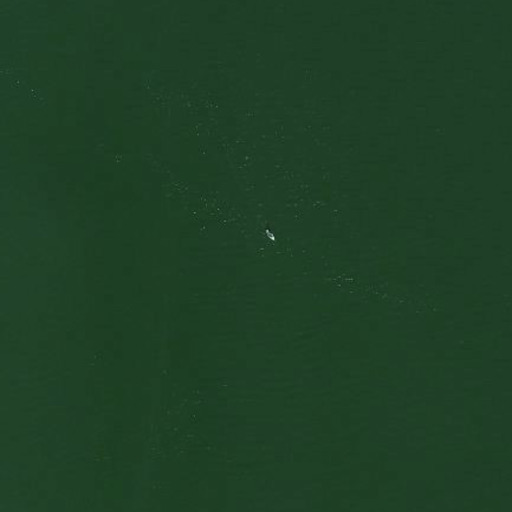ship: (263, 225, 277, 246)
